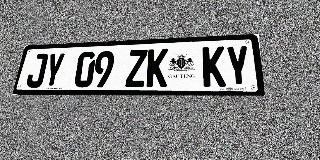0: (73, 51, 97, 87)
9: (92, 51, 115, 87)
J: (25, 53, 49, 88)
K: (202, 46, 226, 87), (146, 48, 168, 87)
Y: (225, 45, 251, 87), (42, 53, 66, 88)
Z: (125, 49, 148, 87)
